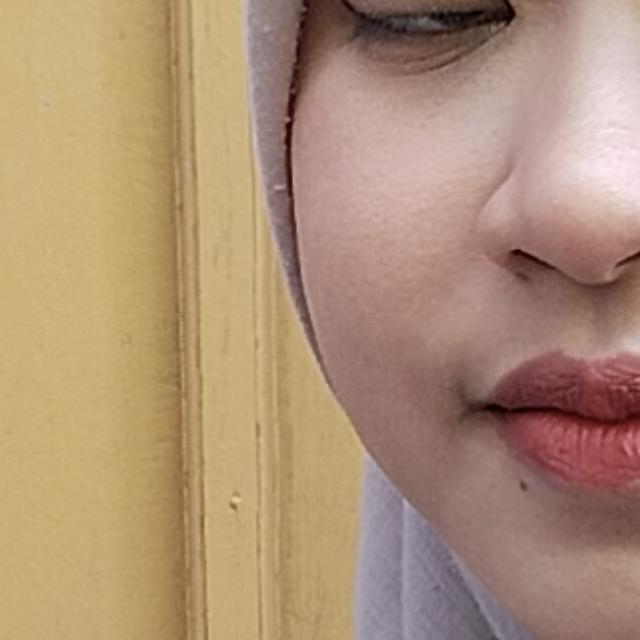baik: (0, 88, 550, 640)
